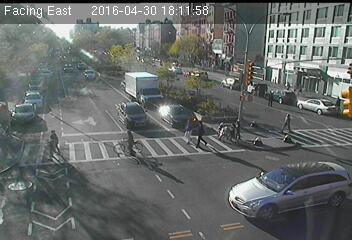neg: (114, 122, 142, 159), (42, 66, 66, 98), (102, 53, 115, 71), (76, 32, 89, 49), (137, 28, 150, 44), (163, 69, 175, 85), (326, 34, 337, 49), (289, 36, 298, 49), (224, 44, 233, 56)
pos: (208, 105, 238, 146), (41, 127, 63, 157), (189, 119, 211, 148), (277, 109, 297, 135), (179, 117, 198, 142), (328, 92, 344, 112), (264, 90, 276, 105), (283, 77, 292, 89)
